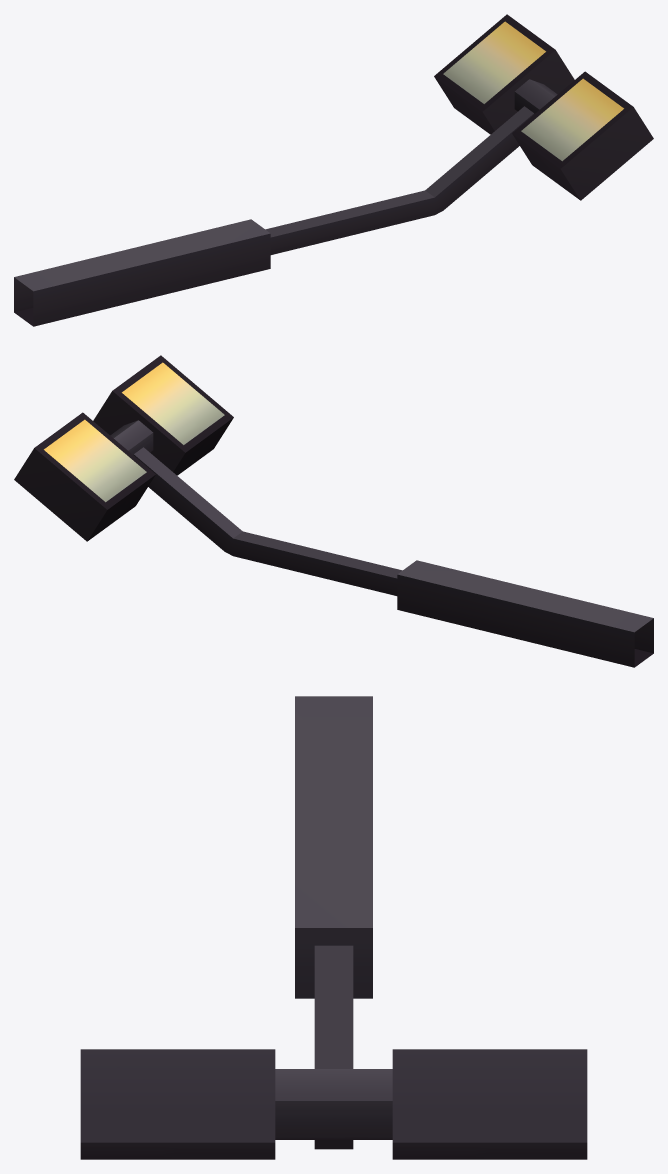
Rendered from Light_Projector_1A.fbx.
3 views of the same model, one above another, from view 1: azimuth 30°, elevation 25°; view 2: azimuth 150°, elevation 25°; view 3: azimuth 270°, elevation 25° (orthographic). The views are drawn at different scales.
Visible parts, largest first — view 1: Light_Projector_1A, Projectors_1A; view 2: Light_Projector_1A, Projectors_1A; view 3: Projectors_1A, Light_Projector_1A.
Boxes of the visible parts, <box> form: Light_Projector_1A: <box>14,79,557,326</box>; Projectors_1A: <box>434,14,653,200</box>; Light_Projector_1A: <box>110,420,653,667</box>; Projectors_1A: <box>14,355,233,541</box>; Projectors_1A: <box>80,1049,587,1159</box>; Light_Projector_1A: <box>275,696,392,1149</box>.
Bounding box in the file's own units: 336 × 71.06 × 130.
